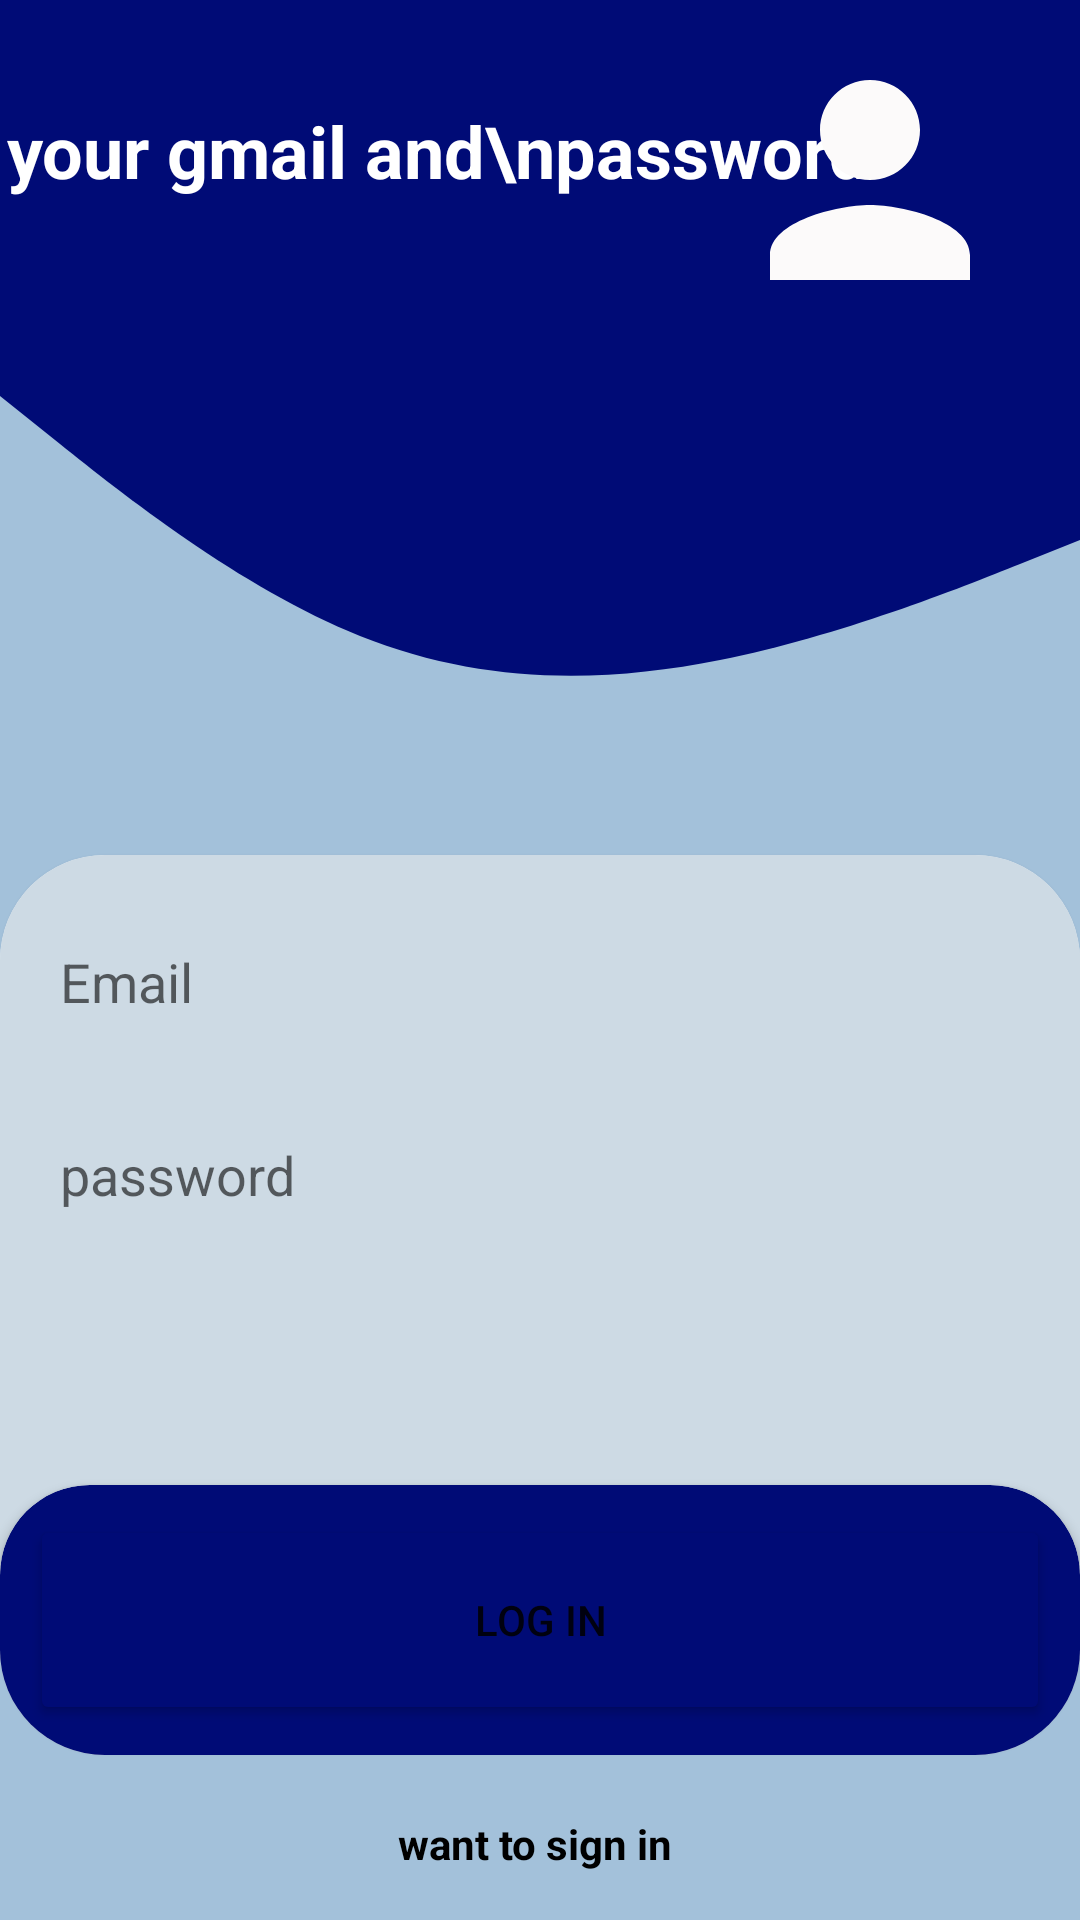

Icon click points for this 1080px×1920px phone screenshot, format (x=x, y=y):
person: (x=867, y=180)
